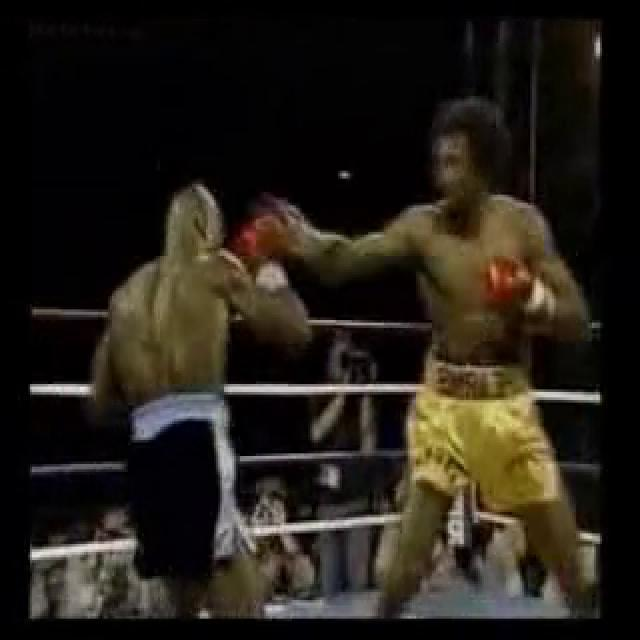violence: (94, 101, 584, 640)
